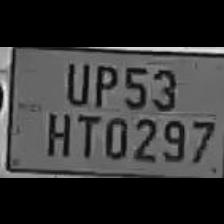0: (99, 110, 129, 160)
2: (129, 113, 157, 162)
3: (148, 64, 180, 110)
5: (118, 60, 148, 108)
7: (186, 115, 214, 165)
9: (159, 114, 186, 162)
H: (41, 107, 71, 157)
P: (89, 58, 117, 108)
T: (72, 110, 100, 158)
U: (60, 56, 90, 104)
